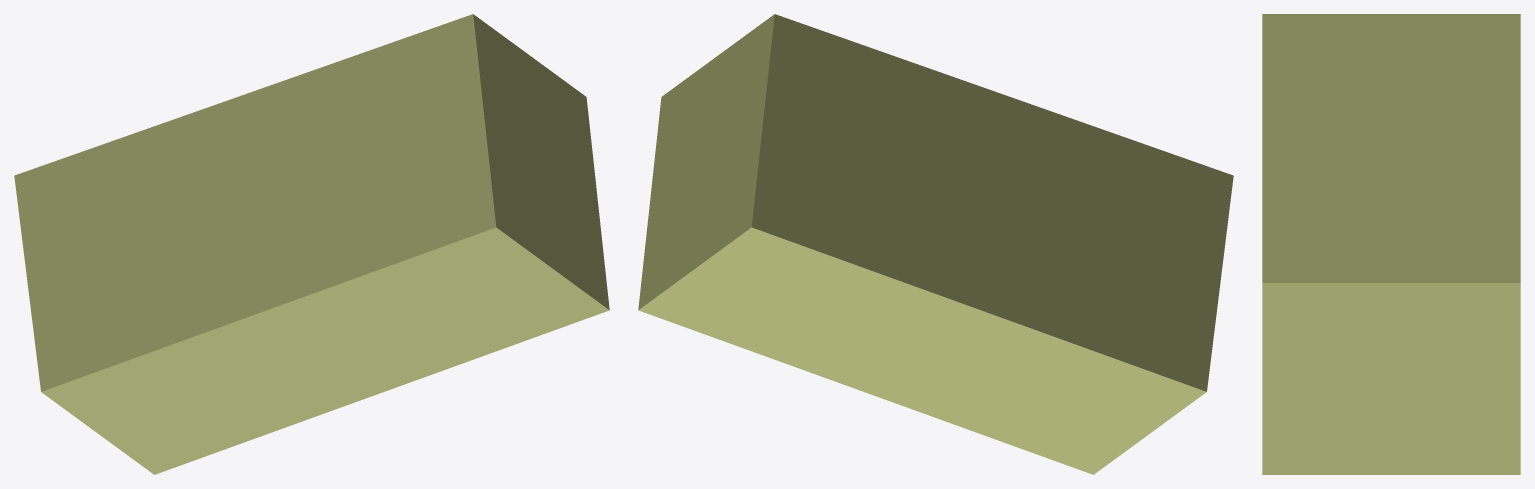
The picture shows the model from 3 angles, left to right: view 1: azimuth 30°, elevation 25°; view 2: azimuth 150°, elevation 25°; view 3: azimuth 270°, elevation 25°; orthographic projection. The views are drawn at different scales.
Visible parts, largest first — view 1: 0_1_2_0_0_3_2_2_1; view 2: 0_1_2_0_0_3_2_2_1; view 3: 0_1_2_0_0_3_2_2_1.
Part boxes in pixels (x1,y1,x2,y2): 0_1_2_0_0_3_2_2_1: (14, 14, 609, 474); 0_1_2_0_0_3_2_2_1: (638, 14, 1233, 474); 0_1_2_0_0_3_2_2_1: (1262, 14, 1520, 474).
Size of the model in its own units: 14.73 by 7.96 by 6.
